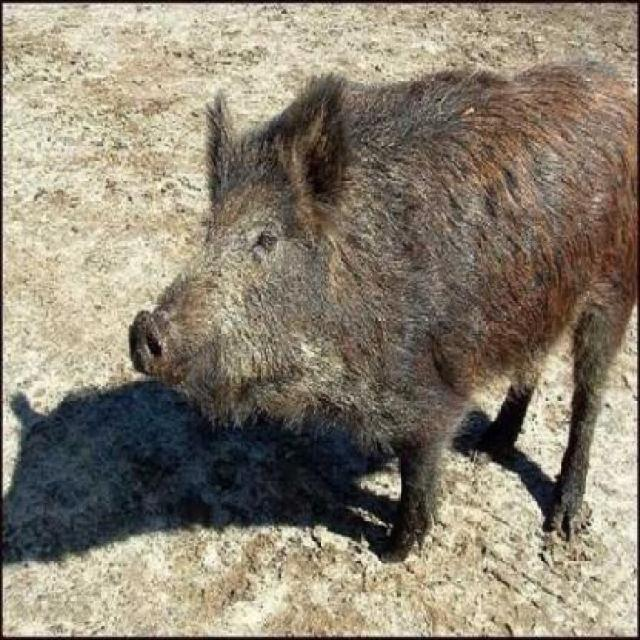Boar: (131, 2, 640, 529)
